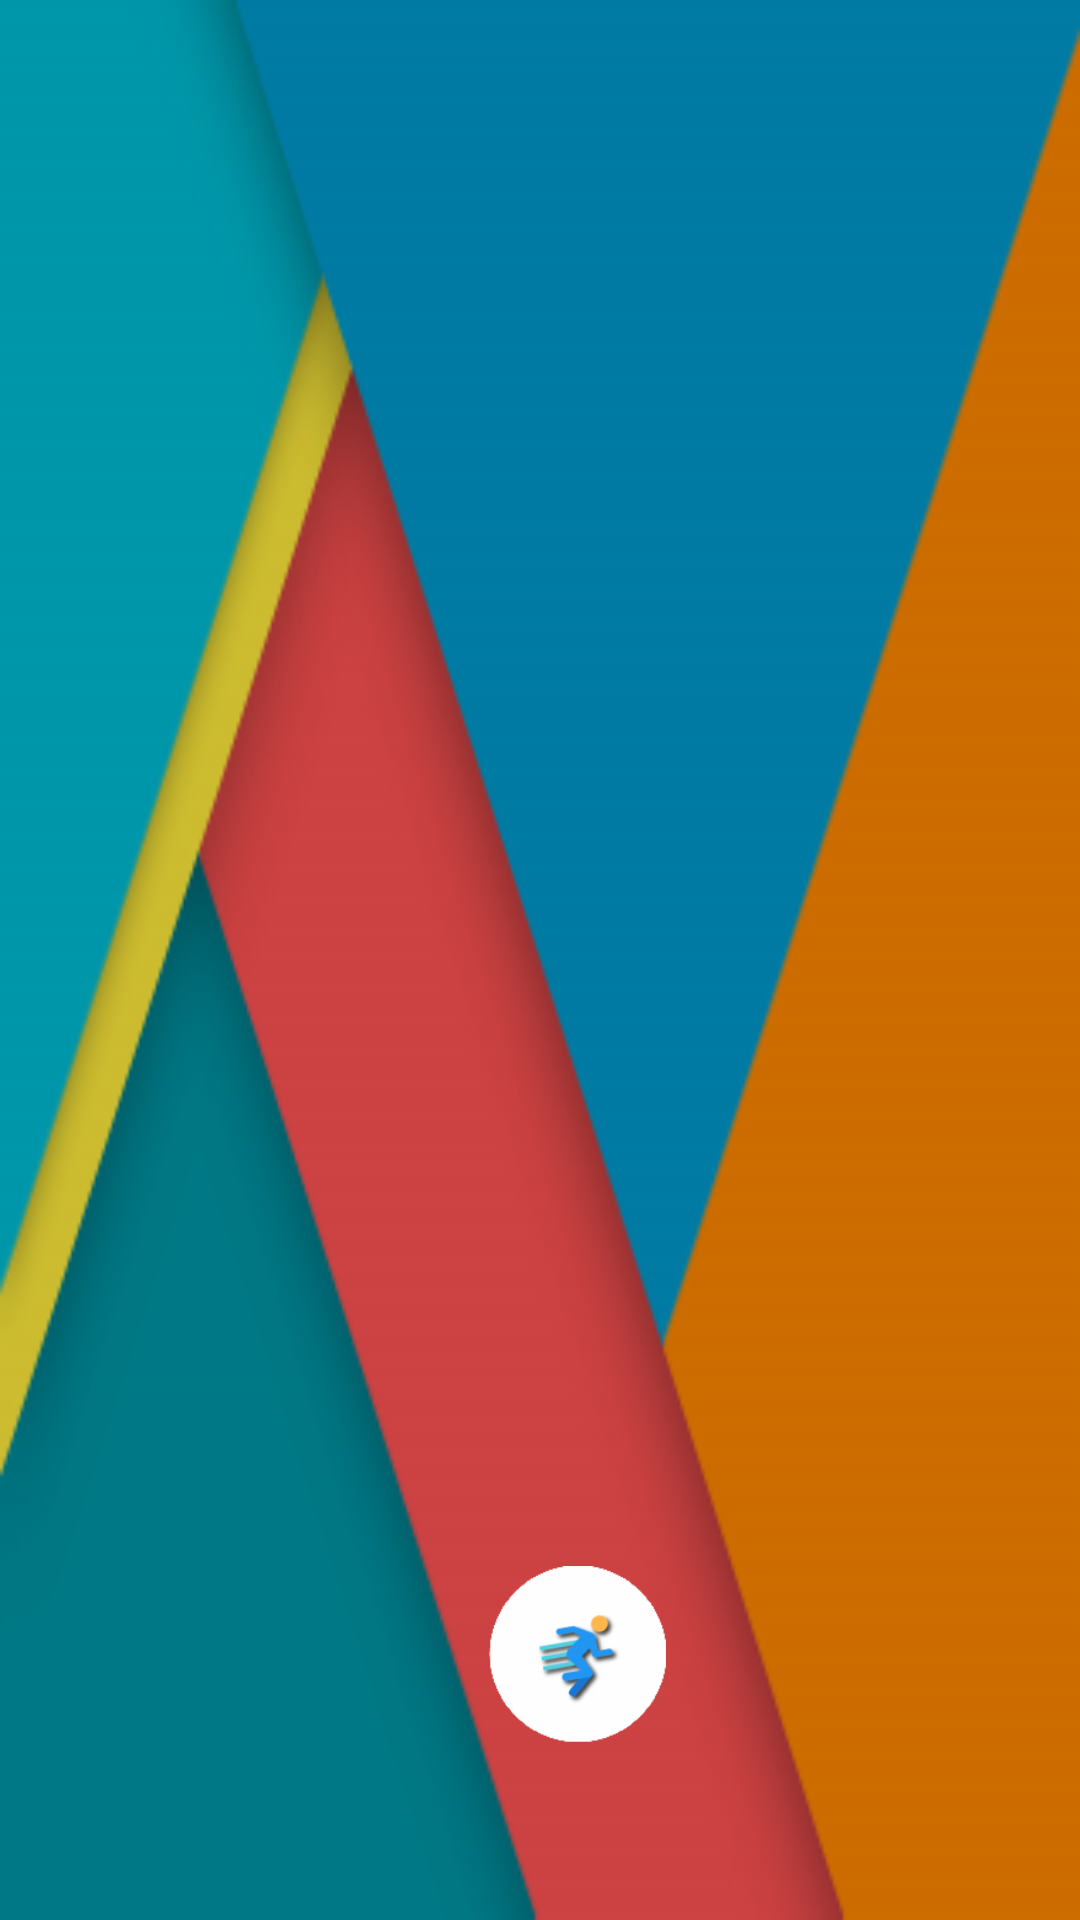

Screen size 1080 × 1920. Icon name, then its center in pixels as (x=x, y=y):
headimg: (x=577, y=1654)
